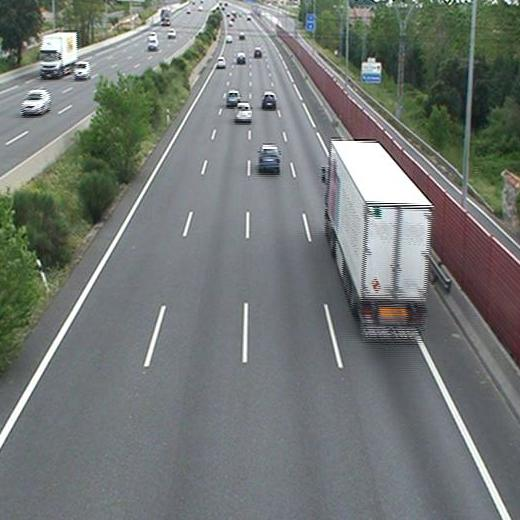car: (258, 147, 279, 168), (234, 104, 252, 121), (225, 90, 240, 107), (262, 92, 277, 107), (215, 56, 226, 68), (235, 53, 246, 64), (253, 48, 263, 58)
truck: (325, 141, 432, 340)
